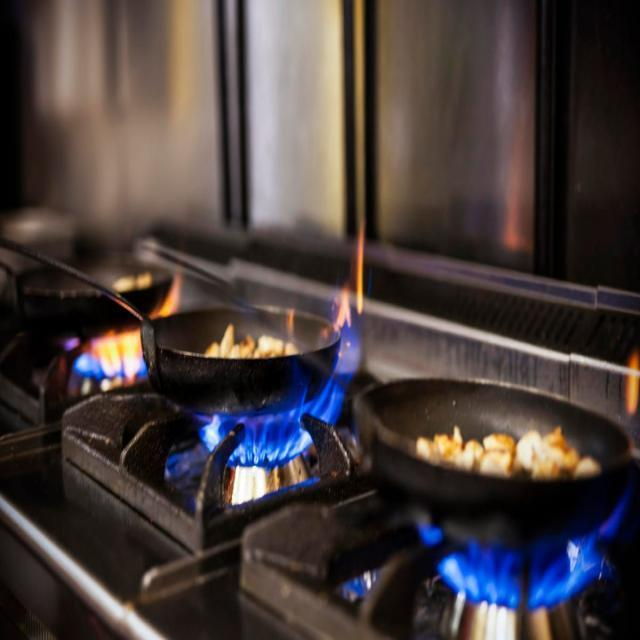Flame: (432, 526, 614, 613), (195, 408, 326, 479), (72, 323, 146, 388)
Pan: (356, 372, 640, 533), (146, 304, 352, 409), (413, 522, 619, 621), (17, 259, 179, 331)
